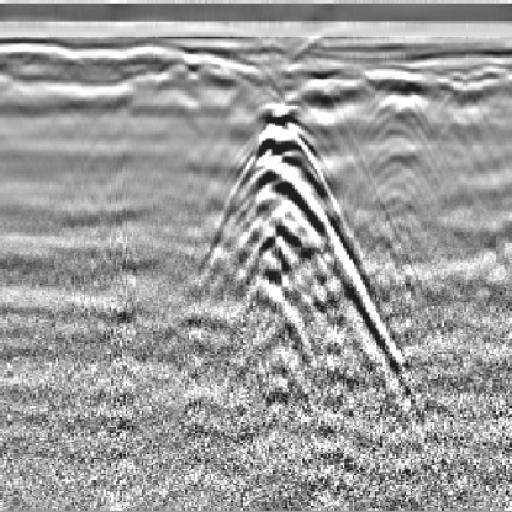metalic: (174, 65, 401, 364)
